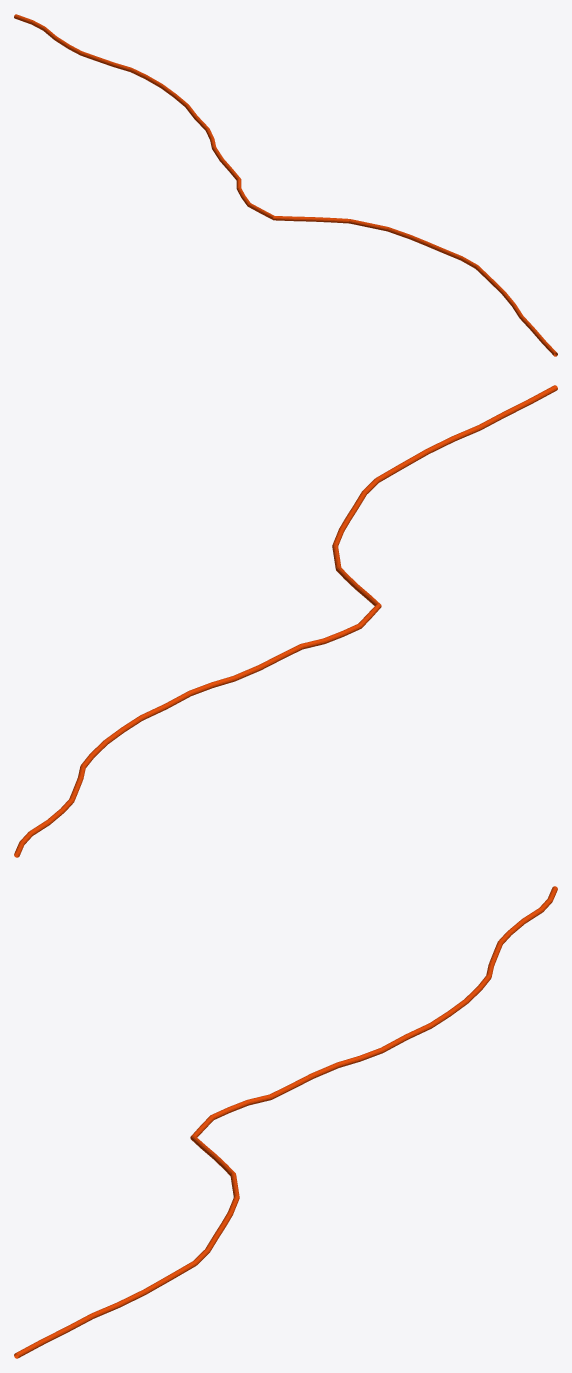
Rendered from Cable9.fbx.
3 views of the same model, one above another, from view 1: azimuth 30°, elevation 25°; view 2: azimuth 150°, elevation 25°; view 3: azimuth 330°, elevation 25° (orthographic). The views are drawn at different scales.
Visible parts, largest first — view 1: Vert.008; view 2: Vert.008; view 3: Vert.008.
Boxes of the visible parts, x1,y1,x2,y2 form: Vert.008: (14,14,557,356); Vert.008: (14,385,557,857); Vert.008: (14,886,557,1358).
Bounding box in the file's own units: 55.16 × 2 × 415.
